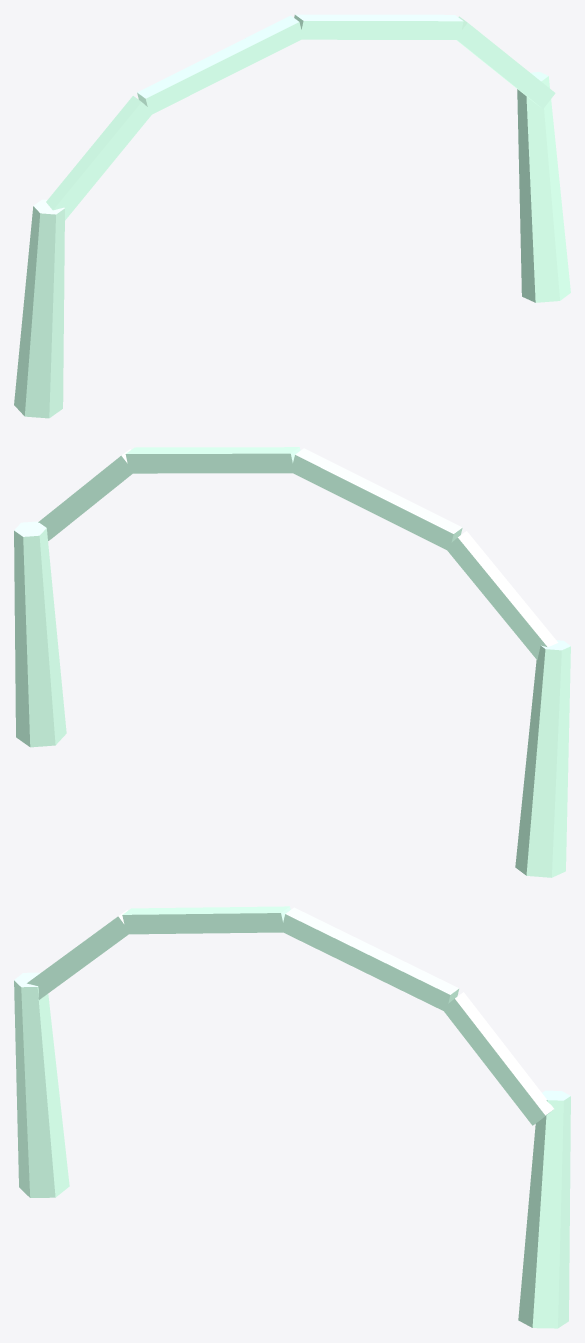
Rendered from memory_wastes_lost_ruin_arch.glb.
3 renders of one model, top to bottom at view 1: azimuth 30°, elevation 25°; view 2: azimuth 150°, elevation 25°; view 3: azimuth 330°, elevation 25°, orthographic. The views are drawn at different scales.
Visible parts, largest first — view 1: PREFAB_memory_wastes_lost_ruin_arch_00_WASTE_OranynRuins_Lar, PREFAB_memory_wastes_lost_ruin_arch_01_WASTE_OranynRuins_Lar, PREFAB_memory_wastes_lost_ruin_arch_03_WASTE_OranynRuins_Lar, PREFAB_memory_wastes_lost_ruin_arch_04_WASTE_OranynRuins_Lar, PREFAB_memory_wastes_lost_ruin_arch_02_WASTE_OranynRuins_Lar, PREFAB_memory_wastes_lost_ruin_arch_05_WASTE_OranynRuins_Lar; view 2: PREFAB_memory_wastes_lost_ruin_arch_00_WASTE_OranynRuins_Lar, PREFAB_memory_wastes_lost_ruin_arch_01_WASTE_OranynRuins_Lar, PREFAB_memory_wastes_lost_ruin_arch_03_WASTE_OranynRuins_Lar, PREFAB_memory_wastes_lost_ruin_arch_04_WASTE_OranynRuins_Lar, PREFAB_memory_wastes_lost_ruin_arch_02_WASTE_OranynRuins_Lar, PREFAB_memory_wastes_lost_ruin_arch_05_WASTE_OranynRuins_Lar; view 3: PREFAB_memory_wastes_lost_ruin_arch_01_WASTE_OranynRuins_Lar, PREFAB_memory_wastes_lost_ruin_arch_00_WASTE_OranynRuins_Lar, PREFAB_memory_wastes_lost_ruin_arch_04_WASTE_OranynRuins_Lar, PREFAB_memory_wastes_lost_ruin_arch_03_WASTE_OranynRuins_Lar, PREFAB_memory_wastes_lost_ruin_arch_05_WASTE_OranynRuins_Lar, PREFAB_memory_wastes_lost_ruin_arch_02_WASTE_OranynRuins_Lar.
Boxes of the visible parts, <box> form: PREFAB_memory_wastes_lost_ruin_arch_00_WASTE_OranynRuins_Lar: <box>14,199,64,418</box>; PREFAB_memory_wastes_lost_ruin_arch_01_WASTE_OranynRuins_Lar: <box>517,72,570,302</box>; PREFAB_memory_wastes_lost_ruin_arch_03_WASTE_OranynRuins_Lar: <box>137,15,303,114</box>; PREFAB_memory_wastes_lost_ruin_arch_04_WASTE_OranynRuins_Lar: <box>294,14,463,39</box>; PREFAB_memory_wastes_lost_ruin_arch_02_WASTE_OranynRuins_Lar: <box>46,96,153,220</box>; PREFAB_memory_wastes_lost_ruin_arch_05_WASTE_OranynRuins_Lar: <box>455,16,555,108</box>; PREFAB_memory_wastes_lost_ruin_arch_00_WASTE_OranynRuins_Lar: <box>515,640,570,877</box>; PREFAB_memory_wastes_lost_ruin_arch_01_WASTE_OranynRuins_Lar: <box>14,521,66,747</box>; PREFAB_memory_wastes_lost_ruin_arch_03_WASTE_OranynRuins_Lar: <box>291,448,462,550</box>; PREFAB_memory_wastes_lost_ruin_arch_04_WASTE_OranynRuins_Lar: <box>125,447,300,473</box>; PREFAB_memory_wastes_lost_ruin_arch_02_WASTE_OranynRuins_Lar: <box>446,531,558,659</box>; PREFAB_memory_wastes_lost_ruin_arch_05_WASTE_OranynRuins_Lar: <box>38,449,132,540</box>; PREFAB_memory_wastes_lost_ruin_arch_01_WASTE_OranynRuins_Lar: <box>518,1090,570,1328</box>; PREFAB_memory_wastes_lost_ruin_arch_00_WASTE_OranynRuins_Lar: <box>14,972,69,1197</box>; PREFAB_memory_wastes_lost_ruin_arch_04_WASTE_OranynRuins_Lar: <box>281,907,459,1011</box>; PREFAB_memory_wastes_lost_ruin_arch_03_WASTE_OranynRuins_Lar: <box>122,906,290,934</box>; PREFAB_memory_wastes_lost_ruin_arch_05_WASTE_OranynRuins_Lar: <box>444,992,553,1125</box>; PREFAB_memory_wastes_lost_ruin_arch_02_WASTE_OranynRuins_Lar: <box>27,910,128,999</box>.
Size of the model in its own units: 8.51 by 5.16 by 1.01.
